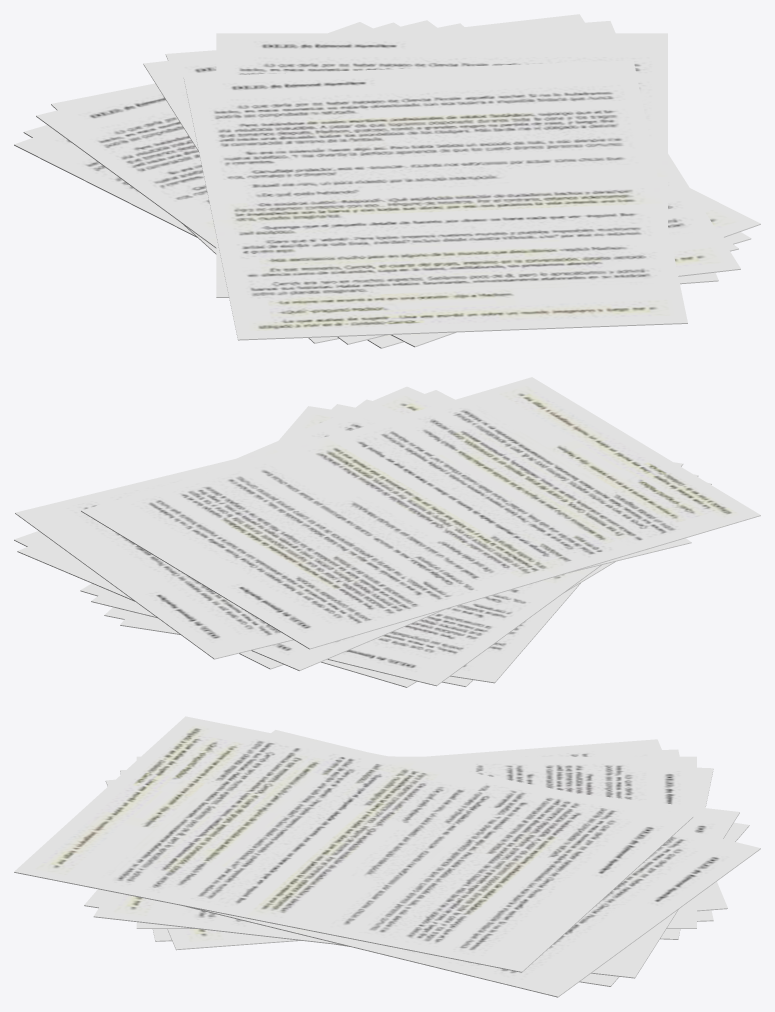
Rendered from Papers.FBX.
3 views of the same model, one above another, from view 1: azimuth 30°, elevation 25°; view 2: azimuth 150°, elevation 25°; view 3: azimuth 270°, elevation 25° (orthographic). The views are drawn at different scales.
Parts seen in each view (by area): view 1: papers; view 2: papers; view 3: papers.
Part boxes in pixels (box(x1,y1,x2,y2)): papers: box(14, 14, 760, 348); papers: box(14, 377, 760, 687); papers: box(14, 716, 760, 997).
Size of the model in its own units: 34.22 by 0.4442 by 38.65.
1 material, 1 textured.
